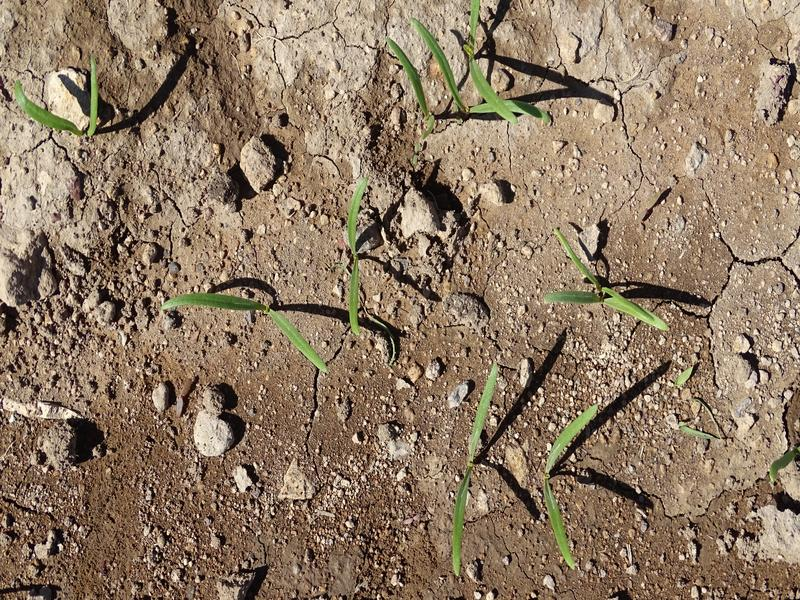Espinaca: (376, 2, 561, 132), (153, 287, 333, 376), (441, 358, 508, 578), (536, 228, 674, 334), (535, 401, 604, 568), (8, 68, 112, 136), (339, 176, 374, 337)
